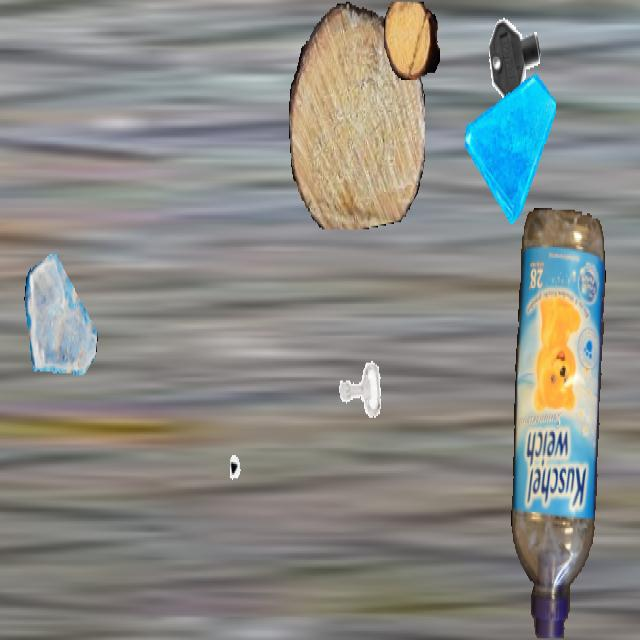glass: (465, 62, 555, 222), (24, 247, 98, 379)
metal: (230, 423, 292, 533), (485, 2, 547, 112), (333, 343, 385, 436)
plastic: (510, 208, 608, 638)
wood: (289, 2, 425, 229), (384, 2, 440, 80)
